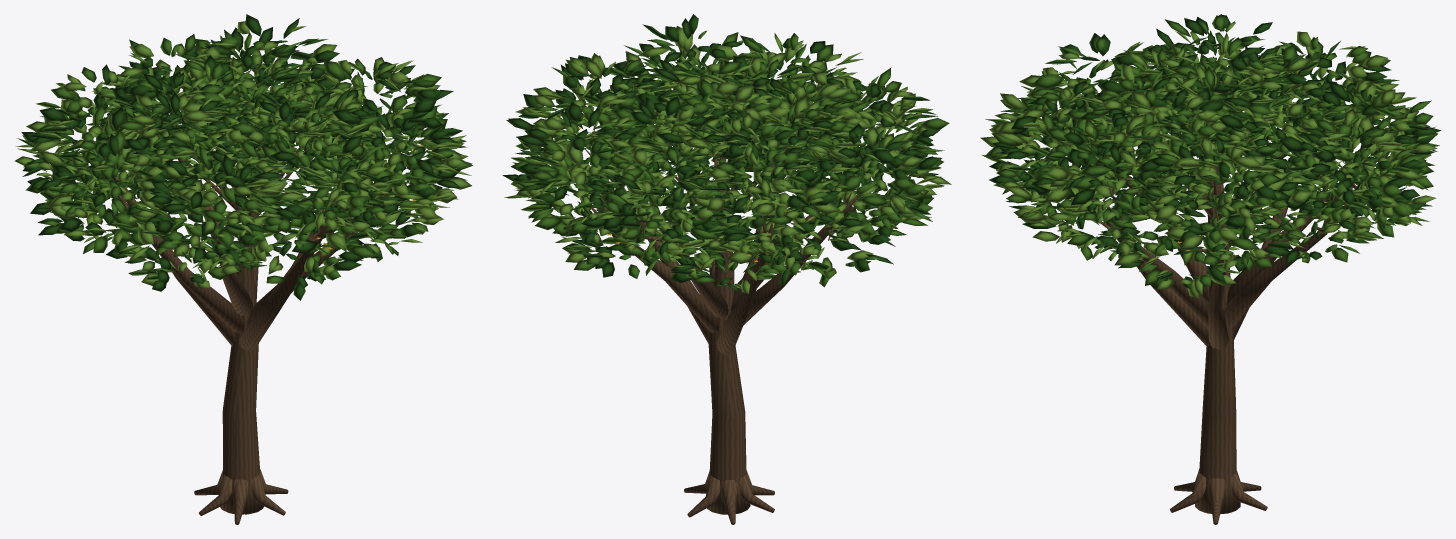
The model's file is MV_Tree_Angsana_7m.fbx.
The picture shows the model from 3 angles, left to right: view 1: azimuth 30°, elevation 25°; view 2: azimuth 150°, elevation 25°; view 3: azimuth 270°, elevation 25°; orthographic projection. The views are drawn at different scales.
Parts seen in each view (by area): view 1: LOD0_Mesh, LOD1_Mesh, LOD2_Mesh; view 2: LOD0_Mesh, LOD1_Mesh, LOD2_Mesh; view 3: LOD0_Mesh, LOD1_Mesh, LOD2_Mesh.
Part boxes in pixels (box(x1,y1,x2,y2)): LOD0_Mesh: box(15, 14, 472, 524); LOD1_Mesh: box(109, 113, 388, 524); LOD2_Mesh: box(109, 123, 390, 524); LOD0_Mesh: box(502, 14, 951, 524); LOD1_Mesh: box(589, 102, 860, 522); LOD2_Mesh: box(586, 101, 862, 524); LOD0_Mesh: box(980, 14, 1441, 524); LOD1_Mesh: box(1098, 120, 1362, 524); LOD2_Mesh: box(1103, 121, 1355, 524).
Size of the model in its own units: 7.09 by 7 by 6.9.
